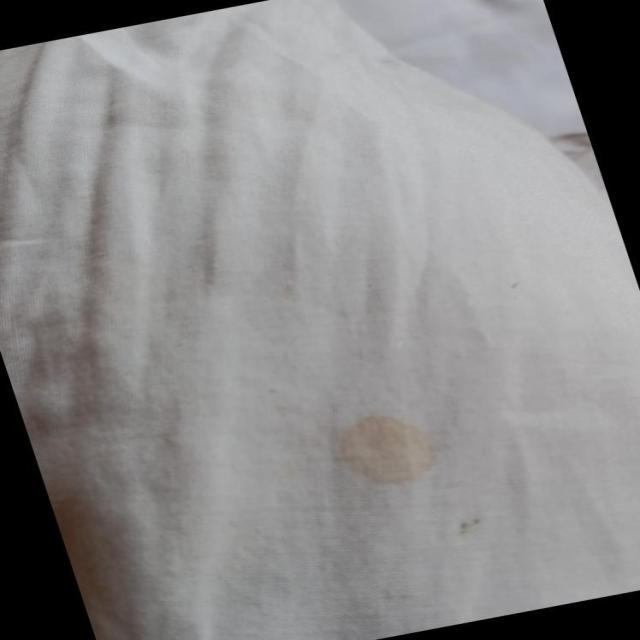stain: (315, 398, 458, 500), (433, 496, 509, 550)
